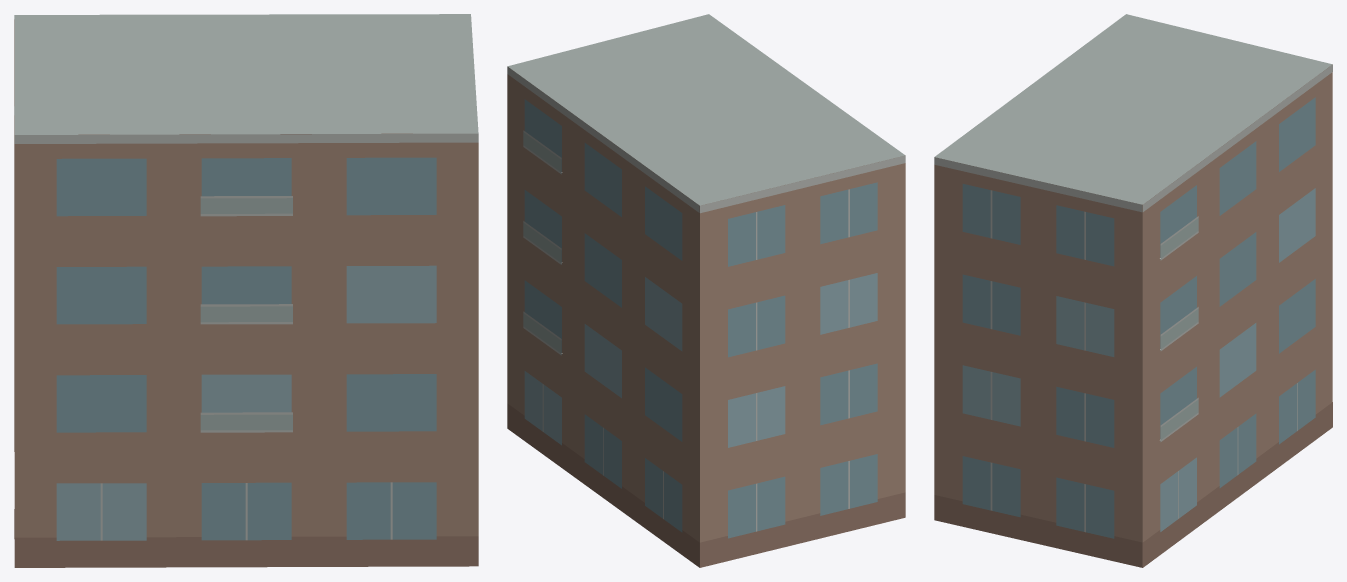
Rendered from survey-upis-32874599.glb.
3 views of the same model, side by side, from view 1: azimuth 30°, elevation 25°; view 2: azimuth 150°, elevation 25°; view 3: azimuth 270°, elevation 25° (orthographic). The views are drawn at different scales.
Parts seen in each view (by area): view 1: survey-upis-32874599.tmp; view 2: survey-upis-32874599.tmp; view 3: survey-upis-32874599.tmp.
Boxes of the visible parts, x1,y1,x2,y2 form: survey-upis-32874599.tmp: [14, 14, 478, 567]; survey-upis-32874599.tmp: [507, 14, 905, 567]; survey-upis-32874599.tmp: [934, 14, 1332, 567].
Size of the model in its own units: 13.08 by 11.6 by 11.54.
